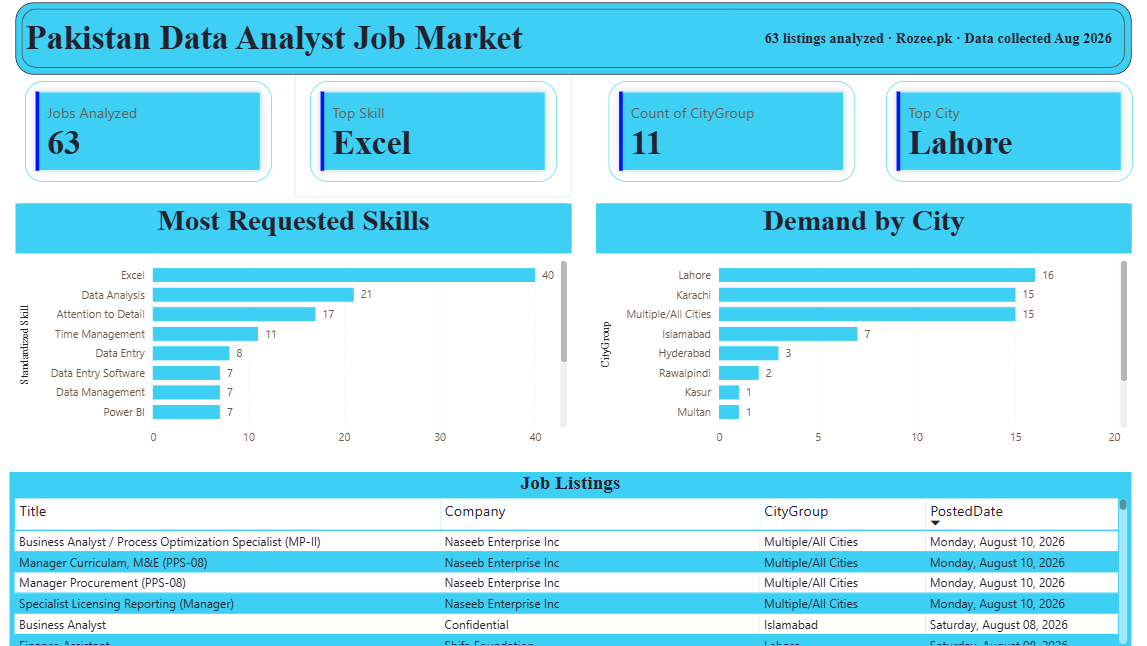

Layout of this report page (visuals, bound fields, positions):
{"tool":"powerbi","page":{"name":"Page 1","canvas":[1280,720],"ordinal":0},"visuals":[{"type":"cardVisual","fields":{"Data":["CountNonNull(Jobs.JobID)"]},"box":[15,75,308.6,146.3],"z":0},{"type":"cardVisual","fields":{"Data":["Count(Jobs.CityGroup)"]},"box":[663.3,74.8,308.6,146.3],"z":1000},{"type":"cardVisual","fields":{"Data":["Jobs.Top City"]},"box":[971.9,74.8,308.6,146.3],"z":2000},{"type":"cardVisual","fields":{"Data":["Skills.Top Skill"]},"box":[330.8,74.8,308.6,146.3],"z":3000},{"type":"clusteredBarChart","title":"Most Requested Skills","fields":{"Category":["Skills.Standardized Skill"],"Y":["CountNonNull(Skills.Standardized Skill)"]},"box":[21.7,228.3,618,287.2],"z":4000},{"type":"clusteredBarChart","title":"Demand by City","fields":{"Category":["Jobs.CityGroup"],"Y":["CountNonNull(Jobs.CityGroup)"]},"box":[666.7,228.3,595.3,287.2],"z":5000},{"type":"tableEx","title":"Job Listings","fields":{"Values":["Jobs.Title","Jobs.Company","Jobs.CityGroup","Jobs.PostedDate"]},"box":[15,526.7,1246.7,193.3],"z":6000},{"type":"shape","box":[21.7,5,1240,80],"z":7000},{"type":"shape","box":[818.3,18.3,421.7,55],"z":8000}]}

Visuals, with their boxes in screenshot pixels (x1, y1, x2, y2), scaled from the page's 1280x720 canvas onto the 1147x646 screenshot:
cardVisual - CountNonNull(Jobs.JobID): box(13, 67, 290, 199)
cardVisual - Count(Jobs.CityGroup): box(594, 67, 871, 198)
cardVisual - Jobs.Top City: box(871, 67, 1146, 198)
cardVisual - Skills.Top Skill: box(296, 67, 573, 198)
"Most Requested Skills" clusteredBarChart: box(19, 205, 573, 463)
"Demand by City" clusteredBarChart: box(597, 205, 1131, 463)
"Job Listings" tableEx: box(13, 473, 1131, 645)
shape: box(19, 4, 1131, 76)
shape: box(733, 16, 1111, 66)
